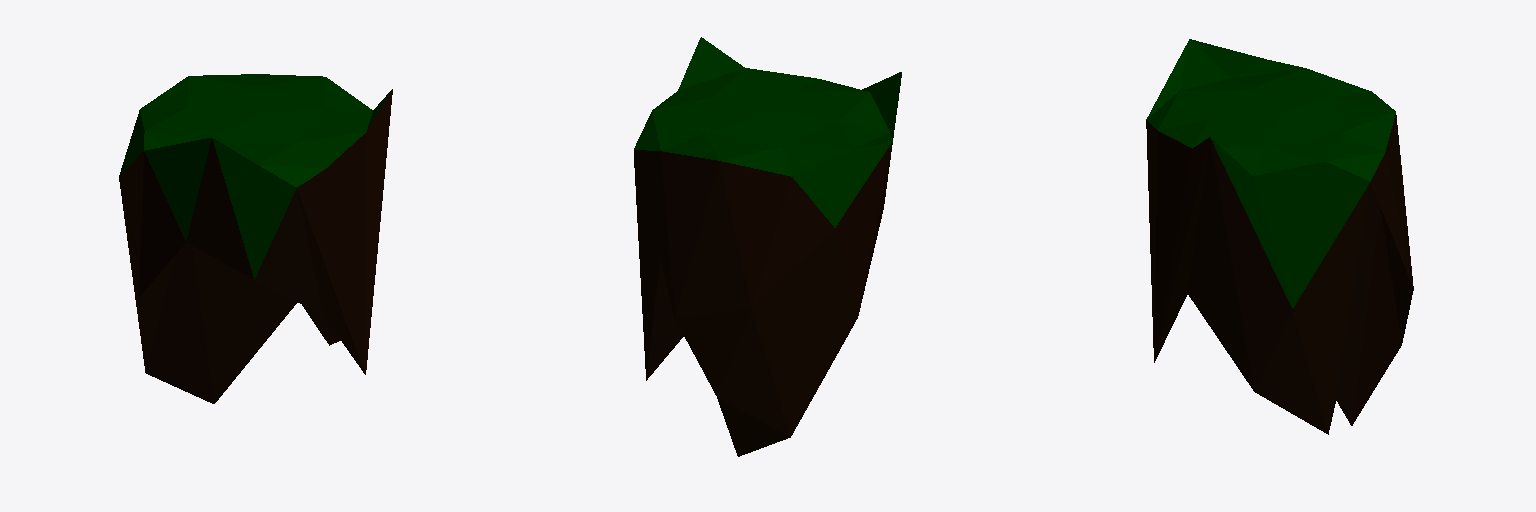
Rendered from floatingisland_7.obj.
3 renders of one model, left to right at view 1: azimuth 30°, elevation 25°; view 2: azimuth 150°, elevation 25°; view 3: azimuth 270°, elevation 25°, orthographic.
Visible parts, largest first — view 1: Icosphere.001; view 2: Icosphere.001; view 3: Icosphere.001.
Part boxes in pixels (bbox=[...]): Icosphere.001: bbox=[119, 74, 392, 403]; Icosphere.001: bbox=[634, 37, 901, 456]; Icosphere.001: bbox=[1146, 39, 1413, 434].
Size of the model in its own units: 1.36 by 1.91 by 1.34.